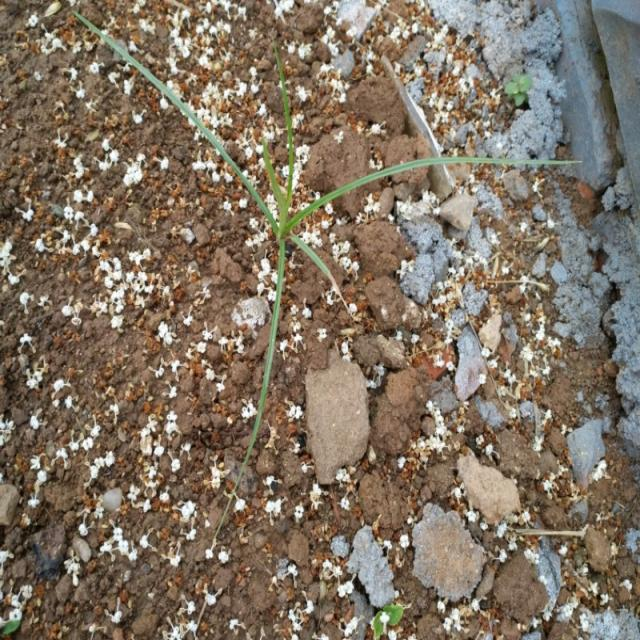sedge: (86, 45, 481, 423)
